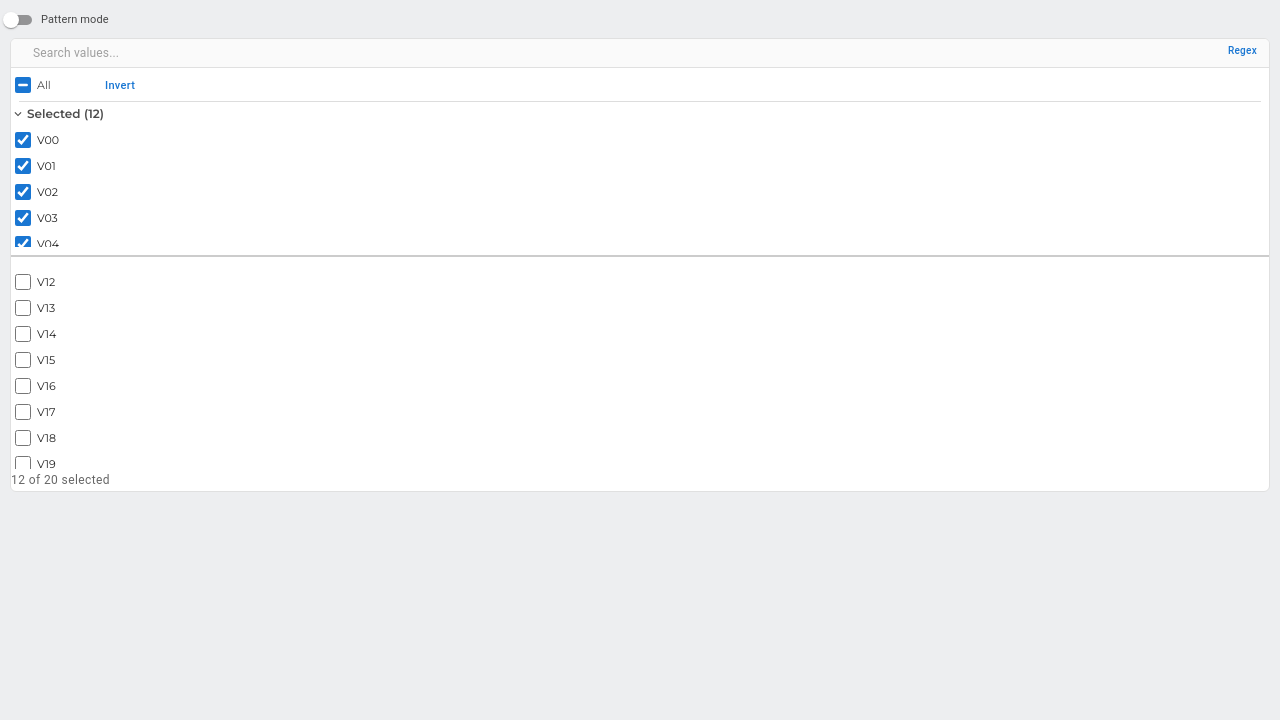
it: DiscreteFilterControl › keeps a large pinned group expanded and collapses it on click
This screenshot has width=1280, height=720.
Expected: the checkbox labelled "V00" is checked, [15,132,31,148]
Expected: the text "12 of 20 selected" is shown, [11,473,110,487]
Click the button "Selected (12)": coordinates (58, 114) [11,105,1269,123]
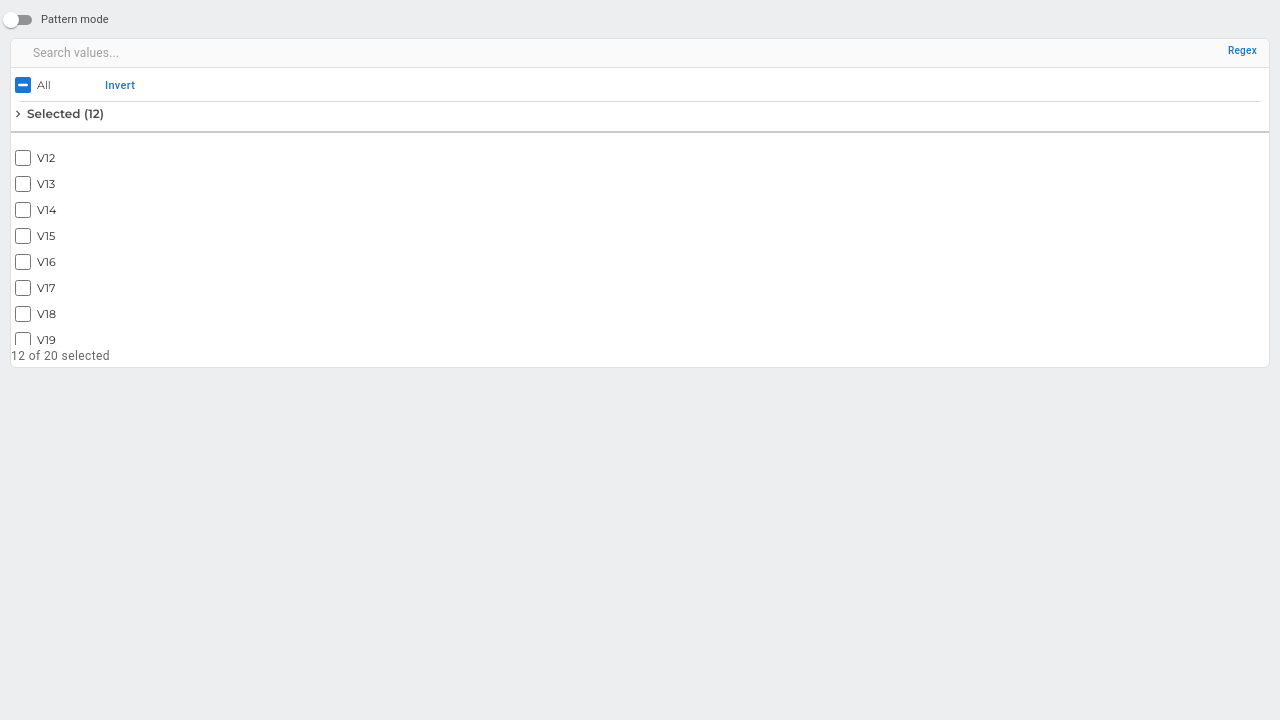
Expected: the text "V12" is shown, [37,152,55,165]
Expected: the button "Selected (12)" is collapsed, [11,105,1269,123]
Expected: the text labelled "V00" is gone
